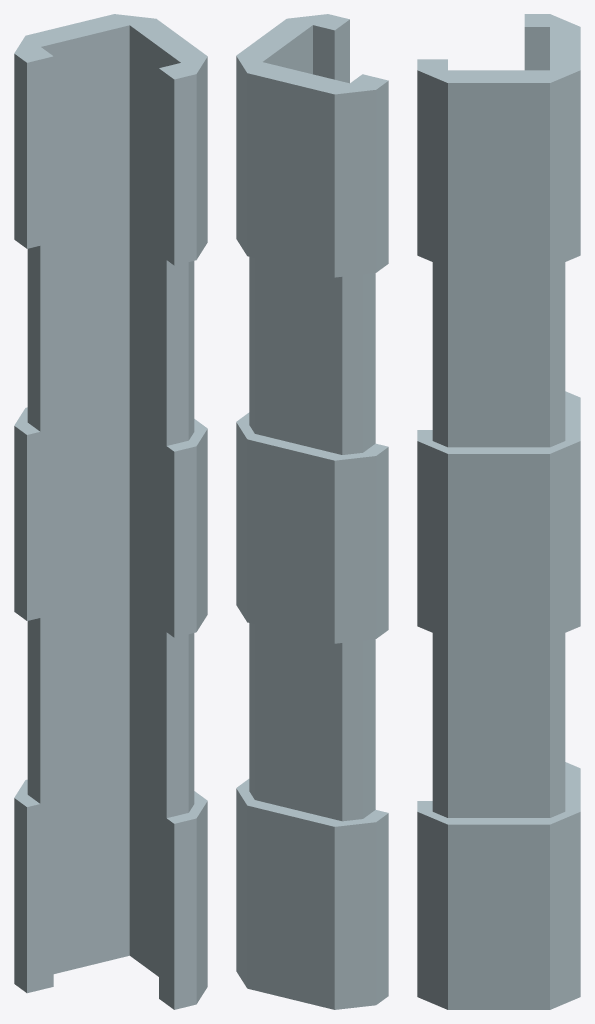
Rendered from wallCornerDetail.glb.
3 renders of one model, left to right at view 1: azimuth 30°, elevation 25°; view 2: azimuth 150°, elevation 25°; view 3: azimuth 270°, elevation 25°, orthographic.
Parts seen in each view (by area): view 1: wallCornerDetail; view 2: wallCornerDetail; view 3: wallCornerDetail.
Boxes of the visible parts, x1,y1,x2,y2 form: wallCornerDetail: (14,14,207,1009); wallCornerDetail: (236,14,388,1009); wallCornerDetail: (417,14,580,1009).
Bounding box in the file's own units: 0.16 × 1 × 0.16.
